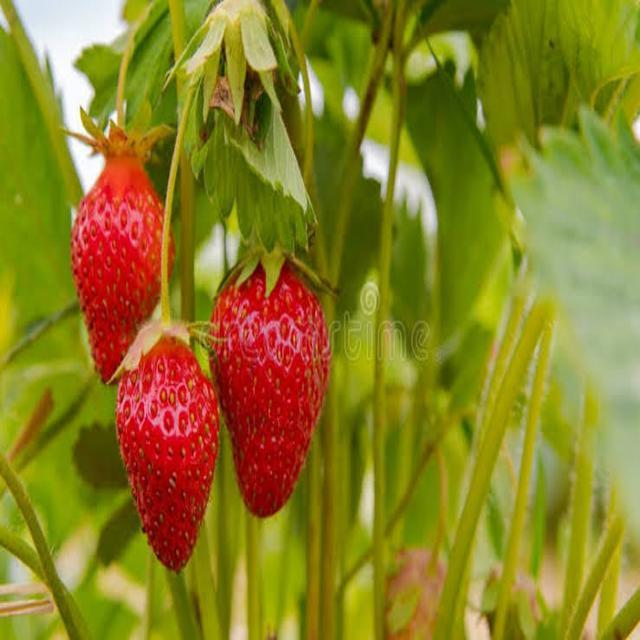Saludable: (210, 266, 333, 517), (112, 325, 220, 566), (69, 149, 172, 385)
